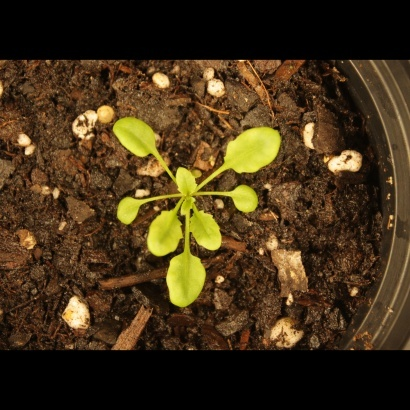leaf: (221, 125, 290, 174), (166, 246, 211, 318), (106, 116, 164, 166), (145, 200, 187, 259), (186, 202, 232, 255), (226, 179, 265, 219), (171, 160, 199, 199), (114, 195, 145, 230), (178, 196, 201, 219)
